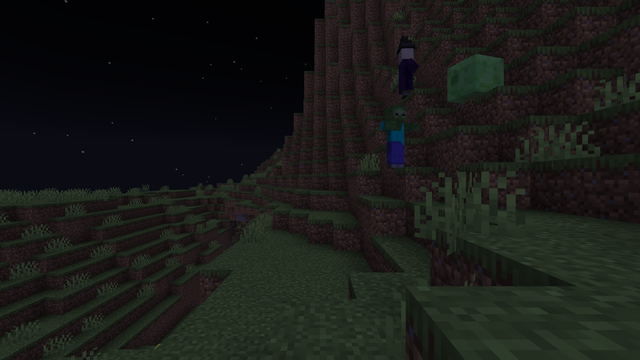slimes: (447, 54, 504, 103)
sorcieres: (396, 45, 415, 98)
zombies: (384, 106, 407, 167)
